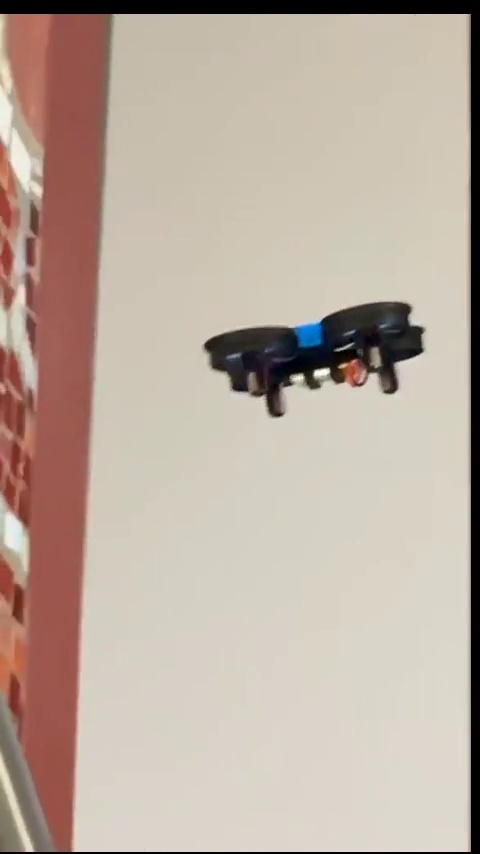drone: (199, 304, 430, 416)
